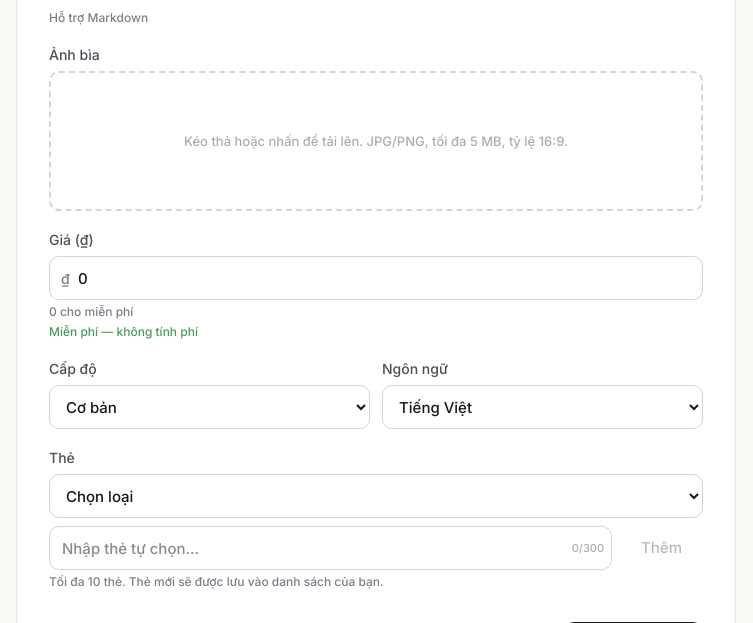
Test: NewCoursePage › shows paid fee preview with correct amounts when price is set
(page scrolled)
Replace the text in the number field with test id "course-price-input" with "100000" at (376, 278), box [49,256,703,300]
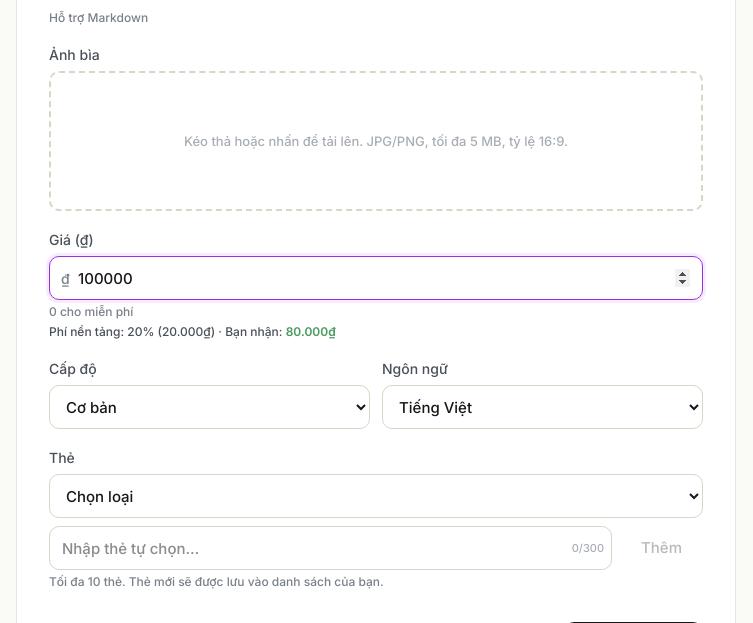
Check: the element with test id "fee-preview" shows "20%", box [127,324,154,339]
Check: the element with test id "fee-preview" shows "20.000", box [158,324,215,339]
Check: the element with test id "fee-preview" shows "80.000", box [286,324,336,339]
